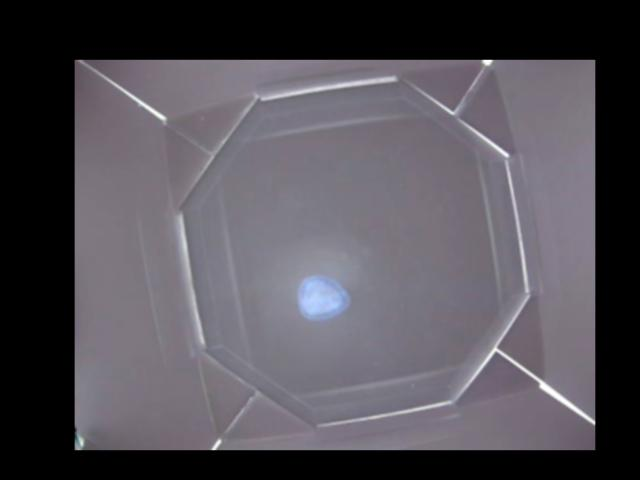Pebble: (298, 272, 348, 320)
